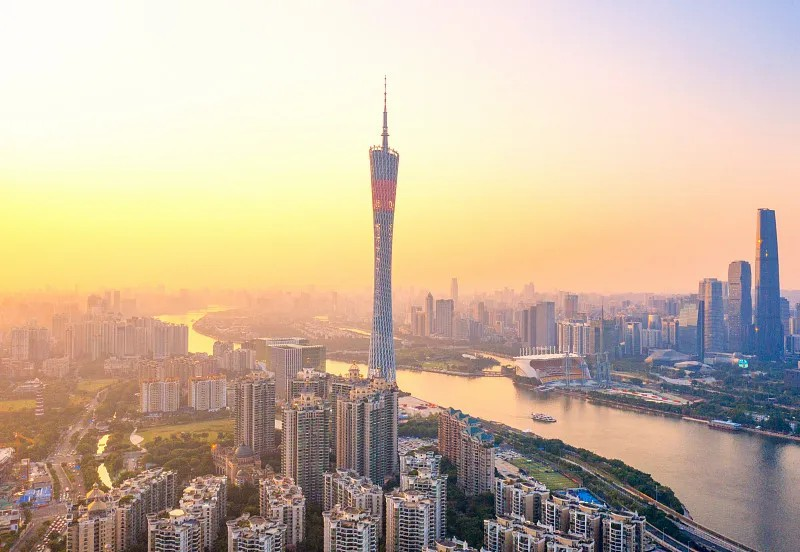Canton: (367, 75, 400, 392)
